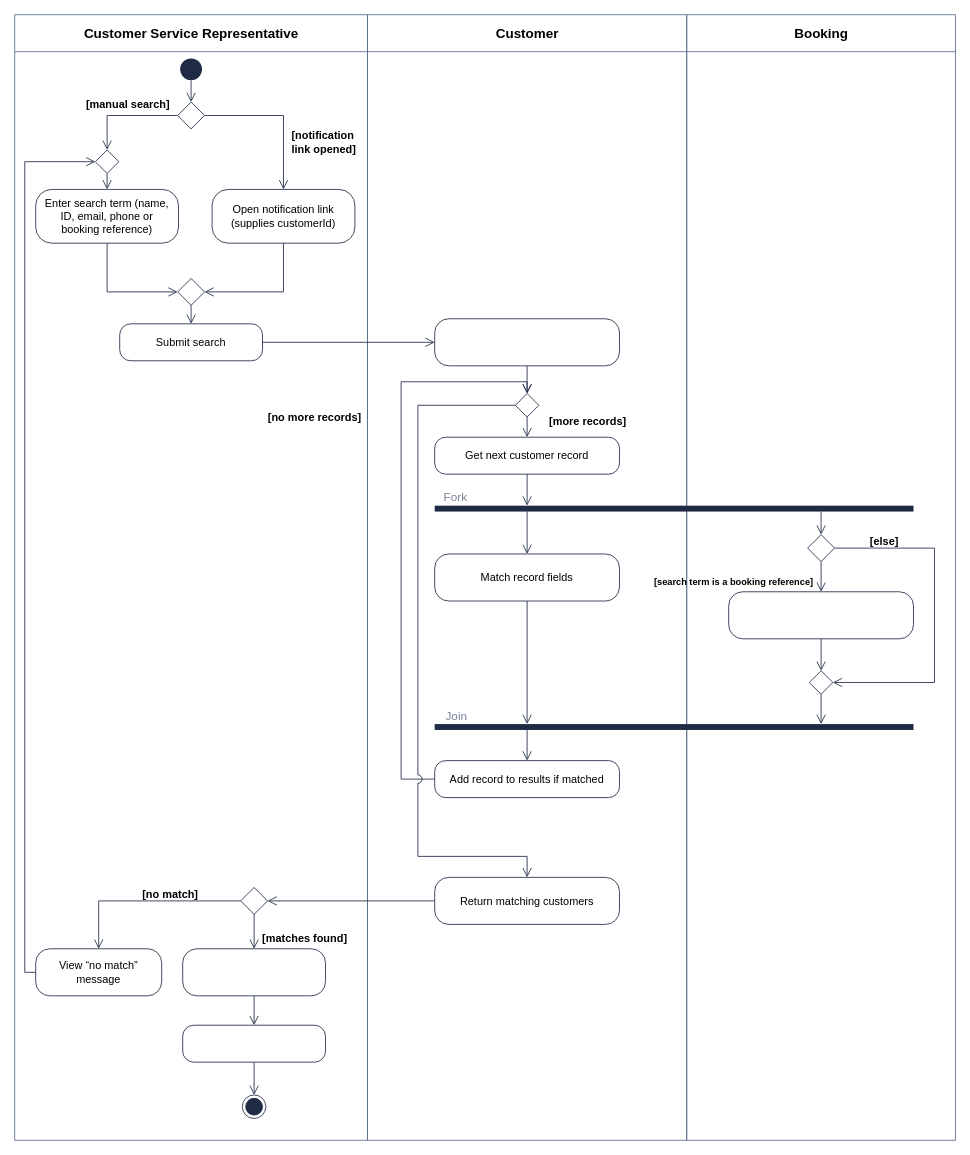
Image size: 970x1155. Some labels were removed from this diagram. The shapes that lost their labels are listed below. From the top down, each one's centre as x and y in pixels, then its label:
At (527,342): "Search customer records".
At (821,615): "Check each booking reference of this customer".
At (254,972): "View all matching customer profiles".
At (254,1043): "Select customer profile".
